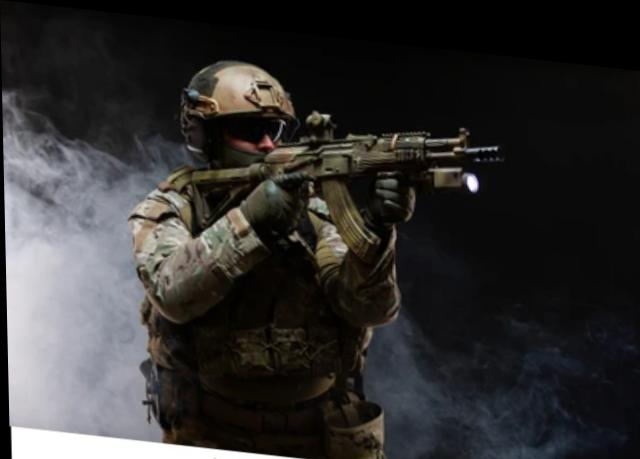other: (134, 67, 384, 456)
